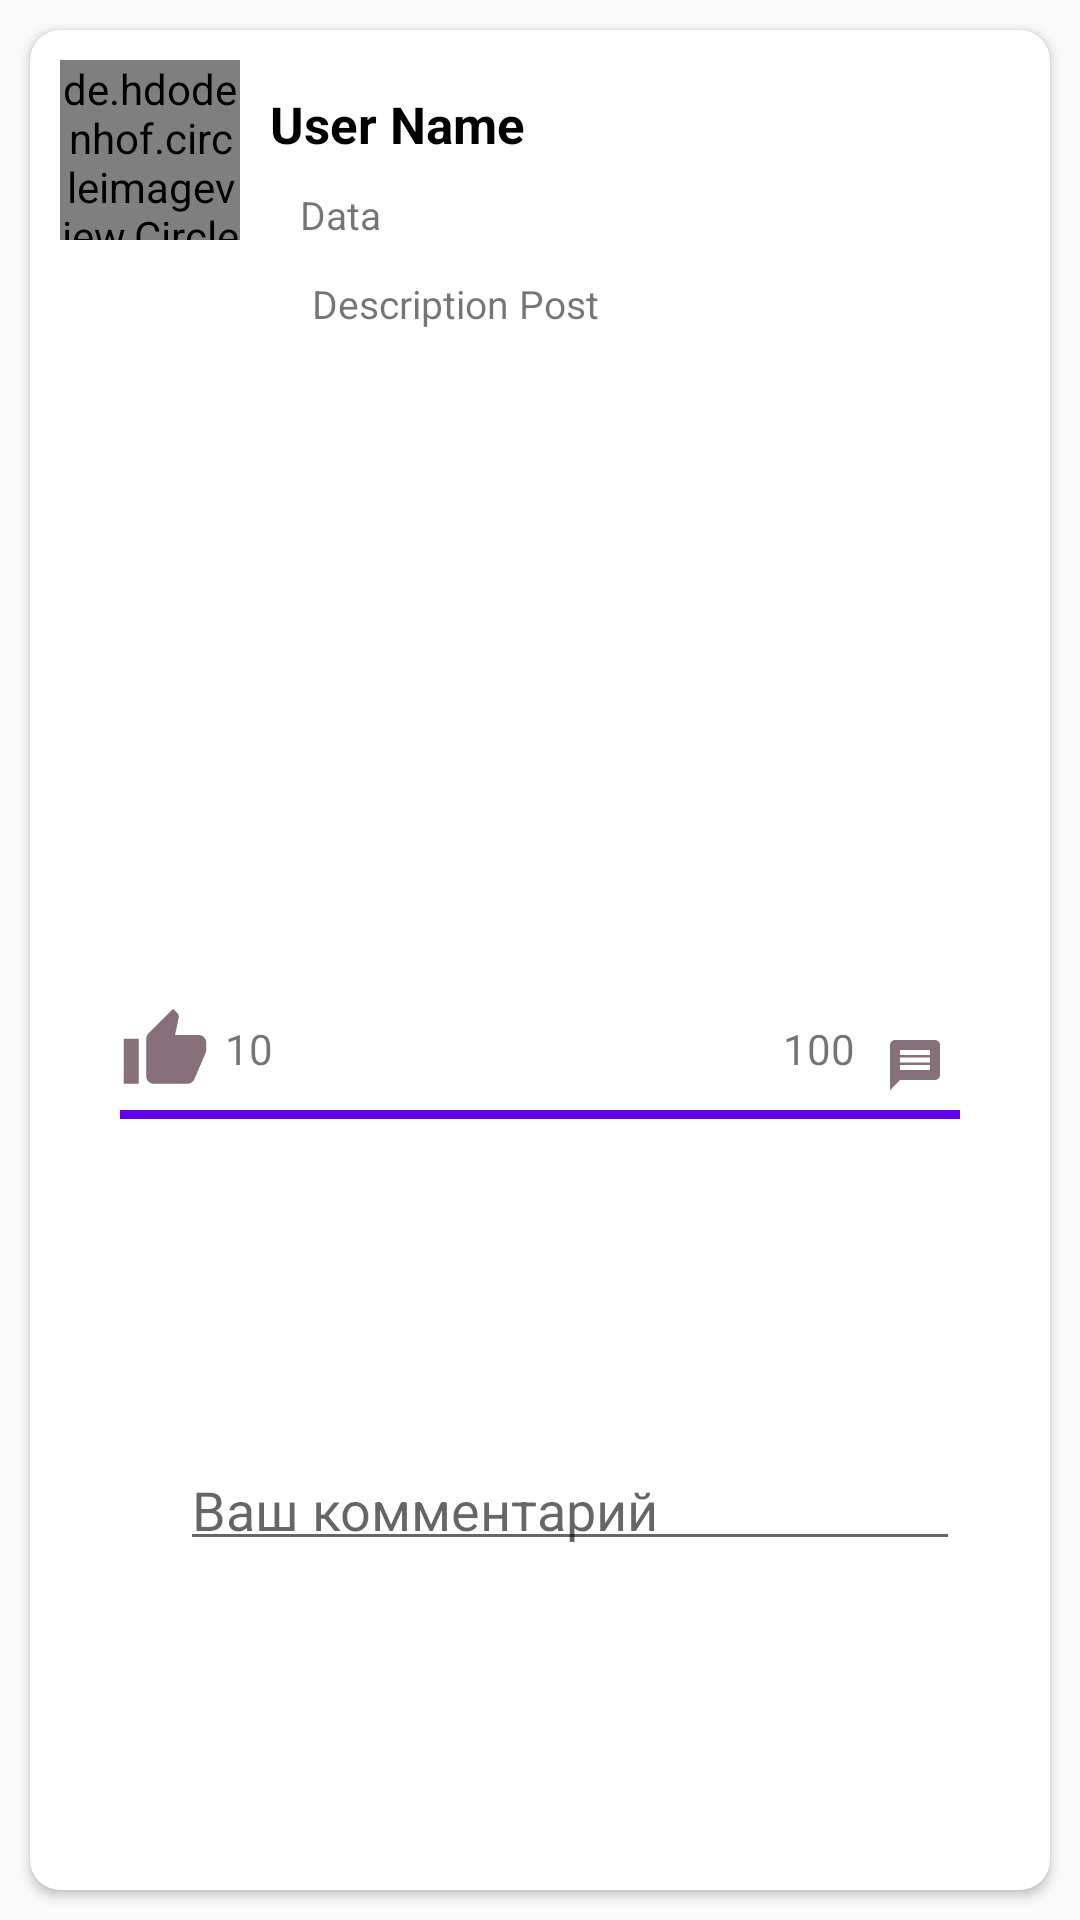

Where icons sit on this 1080px x 1920px app screen, as (x1, y1, x2, y2):
like: (123, 1009, 207, 1084)
message: (890, 1040, 940, 1090)
